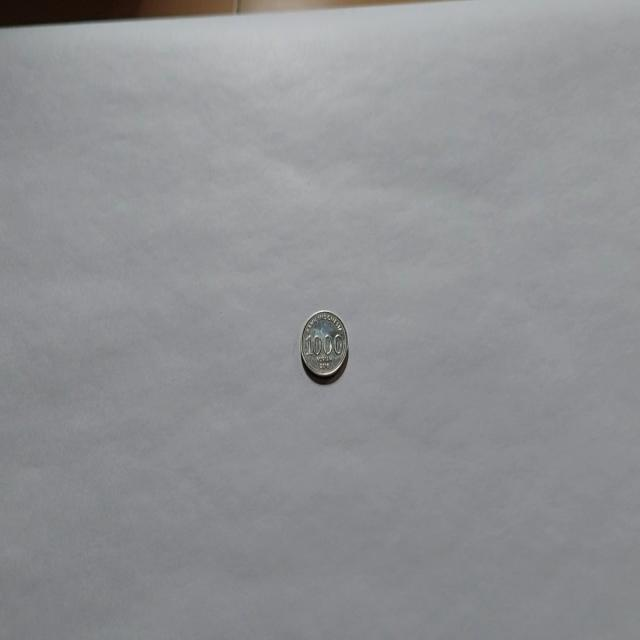seribu rupiah koin: (299, 308, 349, 382)
